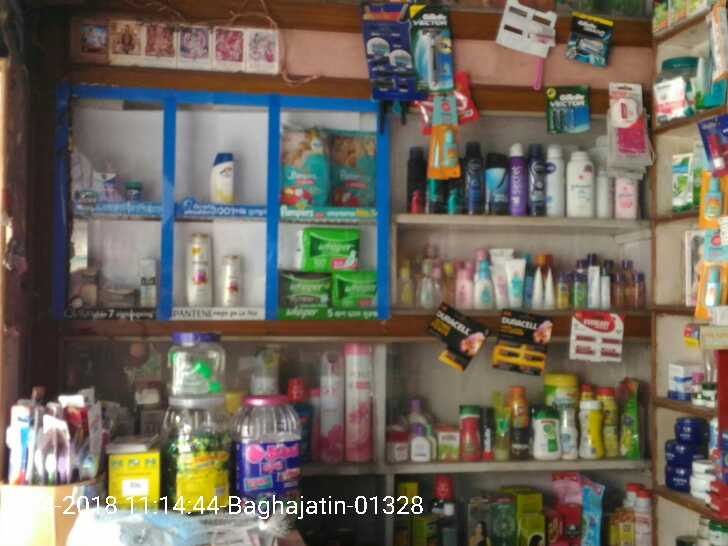vicks: (92, 167, 144, 203)
